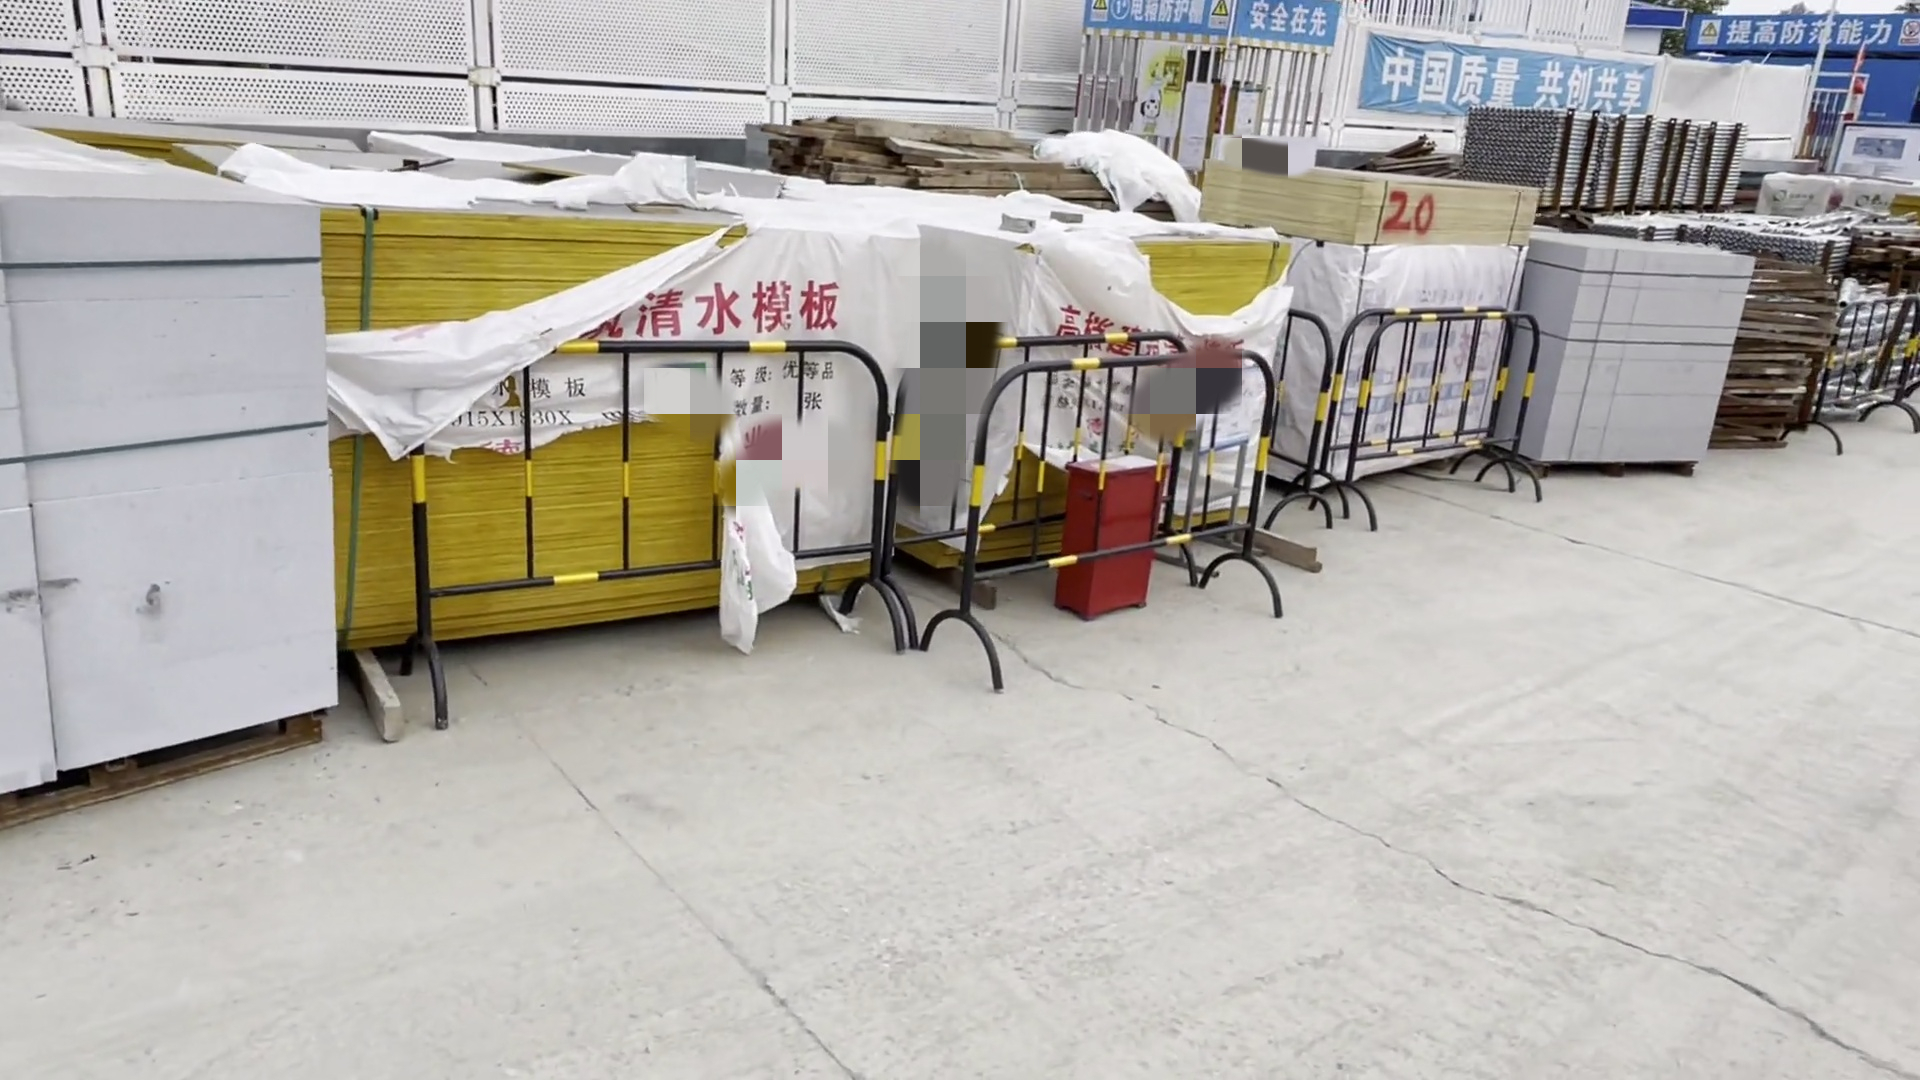brick: (1, 127, 348, 820), (1489, 231, 1720, 481)
fence: (368, 334, 890, 727), (935, 345, 1271, 676), (1316, 313, 1542, 520), (1792, 291, 1920, 444)
